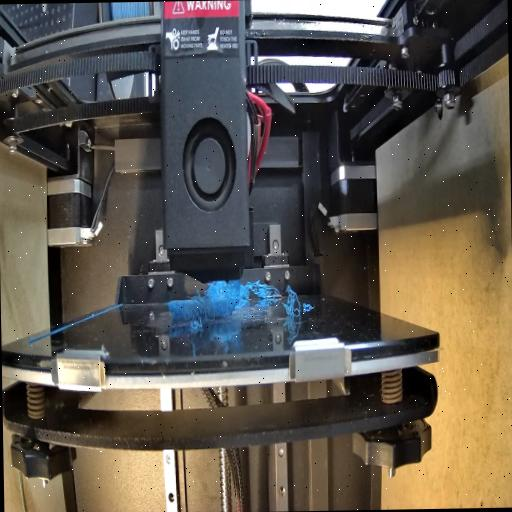spaghetti: (200, 276, 284, 310), (285, 288, 305, 320)
